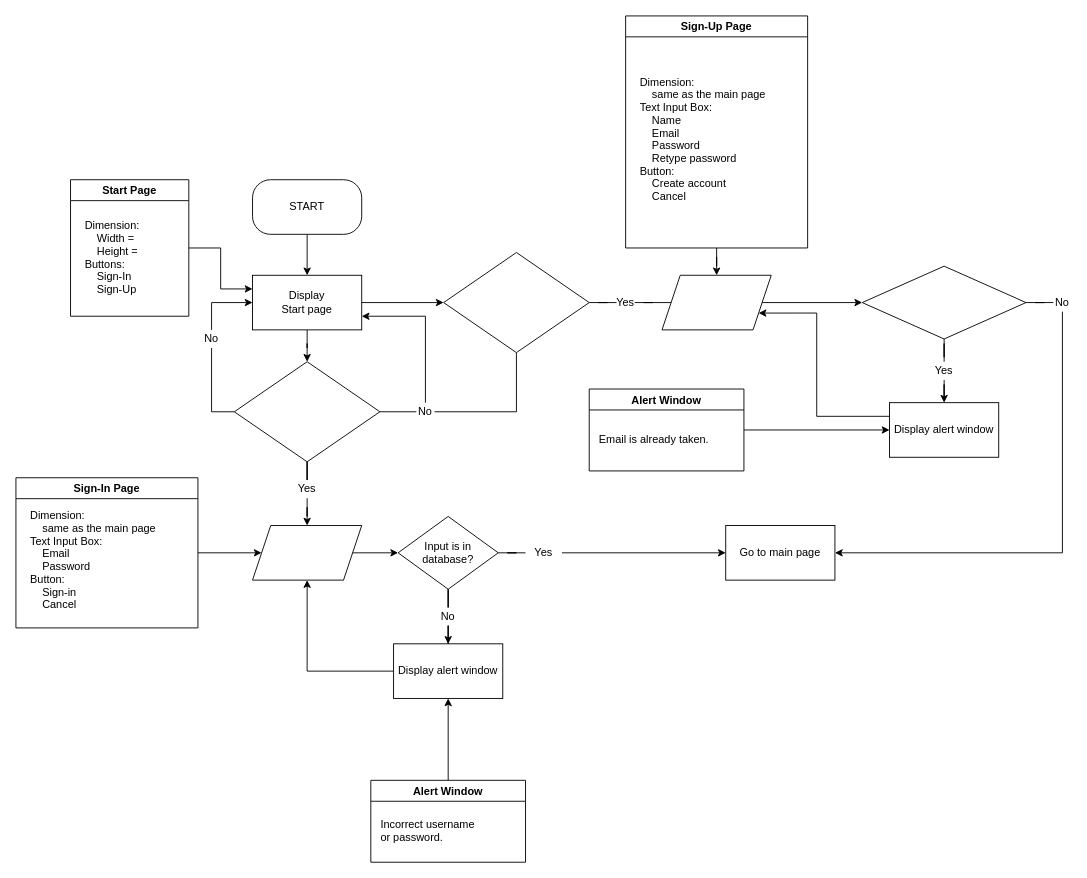
The diagram is 1087 pixels wide and 878 high, and some of its shapes have lost their labels. Each missing label, with the centre of its shape:
"Did the user click Sign-in button?" belongs at point 306,411.
"Did the user click Sign-up button?" belongs at point 516,302.
"Input credentials" belongs at point 716,302.
"Input email and password" belongs at point 307,552.
"Is the email already in database?" belongs at point 943,302.
